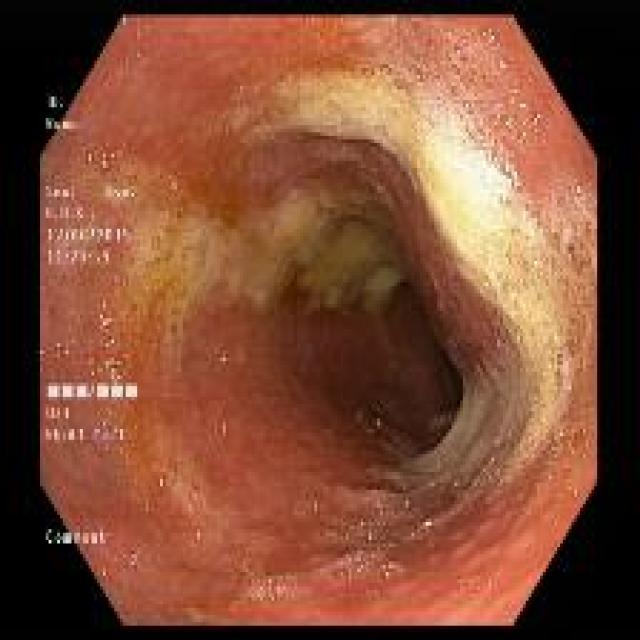ulcerative-colitis: (40, 17, 598, 624)
